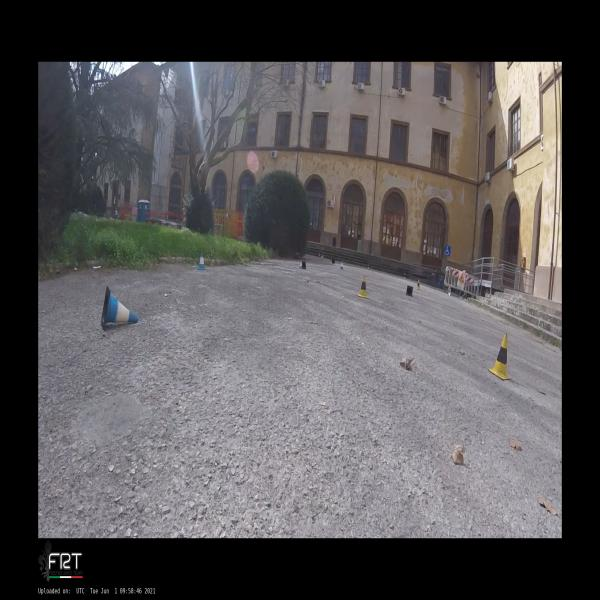blue_cone: (101, 286, 138, 331), (197, 252, 207, 270), (339, 261, 344, 270), (318, 252, 320, 257), (321, 255, 323, 259)
unknown_cone: (406, 285, 414, 297), (299, 261, 306, 269), (332, 259, 335, 263)
yellow_cone: (488, 334, 510, 380), (357, 276, 368, 299), (416, 279, 420, 291), (403, 272, 406, 280), (367, 263, 370, 269)
